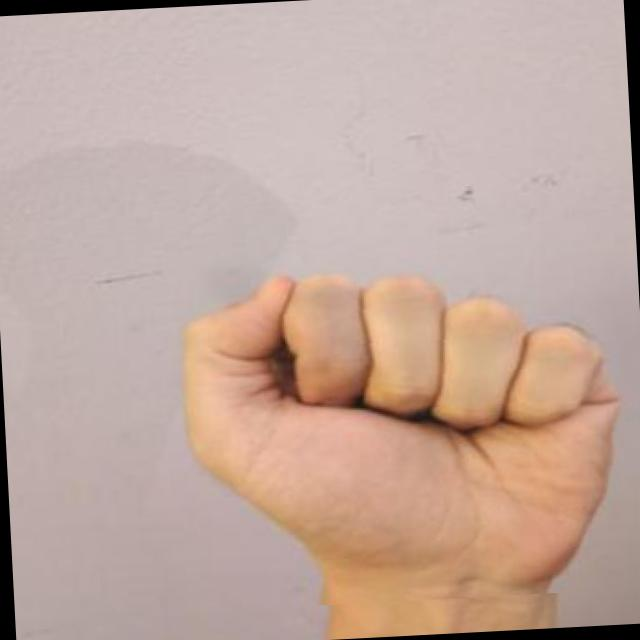A: (159, 244, 640, 612)
